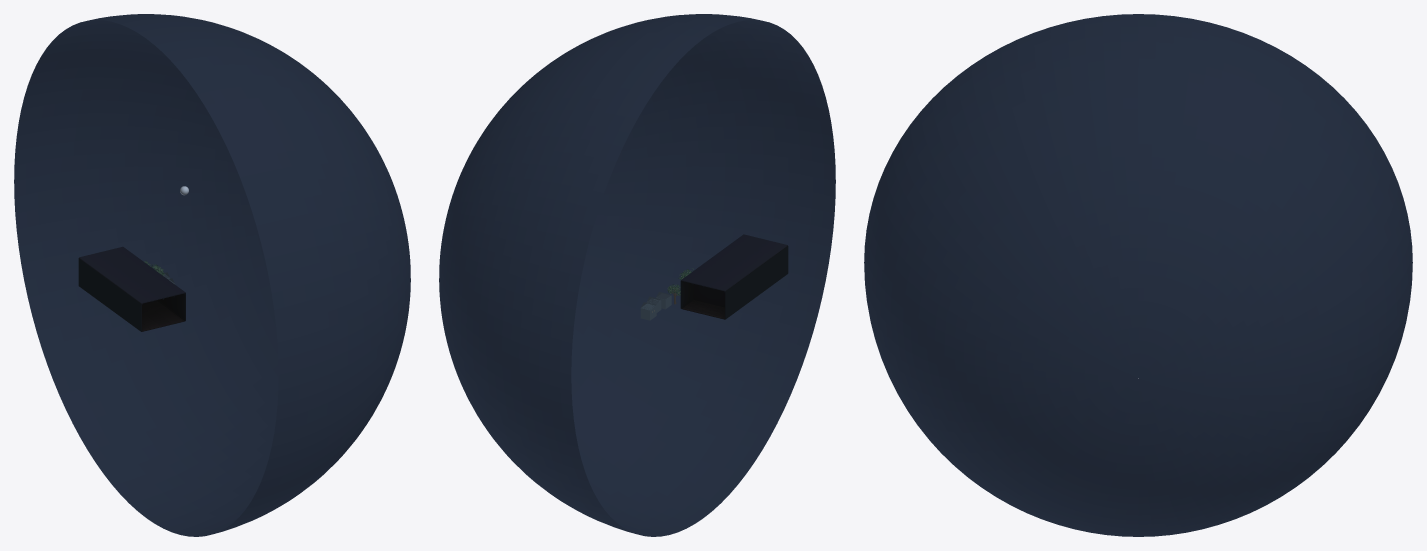
File: about-me-shaded-v3.glb
3 renders of one model, left to right at view 1: azimuth 30°, elevation 25°; view 2: azimuth 150°, elevation 25°; view 3: azimuth 270°, elevation 25°, orthographic. The views are drawn at different scales.
Visible parts, largest first — view 1: Wrapped dark sky hemisphere, RoomShell__About_Baked_room, RoomShell__About_Baked_wood; view 2: Wrapped dark sky hemisphere, RoomShell__About_Baked_room, RoomShell__About_Baked_wood; view 3: Wrapped dark sky hemisphere.
Part boxes in pixels (x1,y1,x2,y2): Wrapped dark sky hemisphere: (14,14,410,536); RoomShell__About_Baked_room: (78,246,185,331); RoomShell__About_Baked_wood: (141,301,185,331); Wrapped dark sky hemisphere: (439,14,835,536); RoomShell__About_Baked_room: (680,234,788,319); RoomShell__About_Baked_wood: (681,300,725,319); Wrapped dark sky hemisphere: (864,14,1412,536).
Bounding box in the file's own units: 65.8 × 110 × 110.
48 materials, 24 textured.
